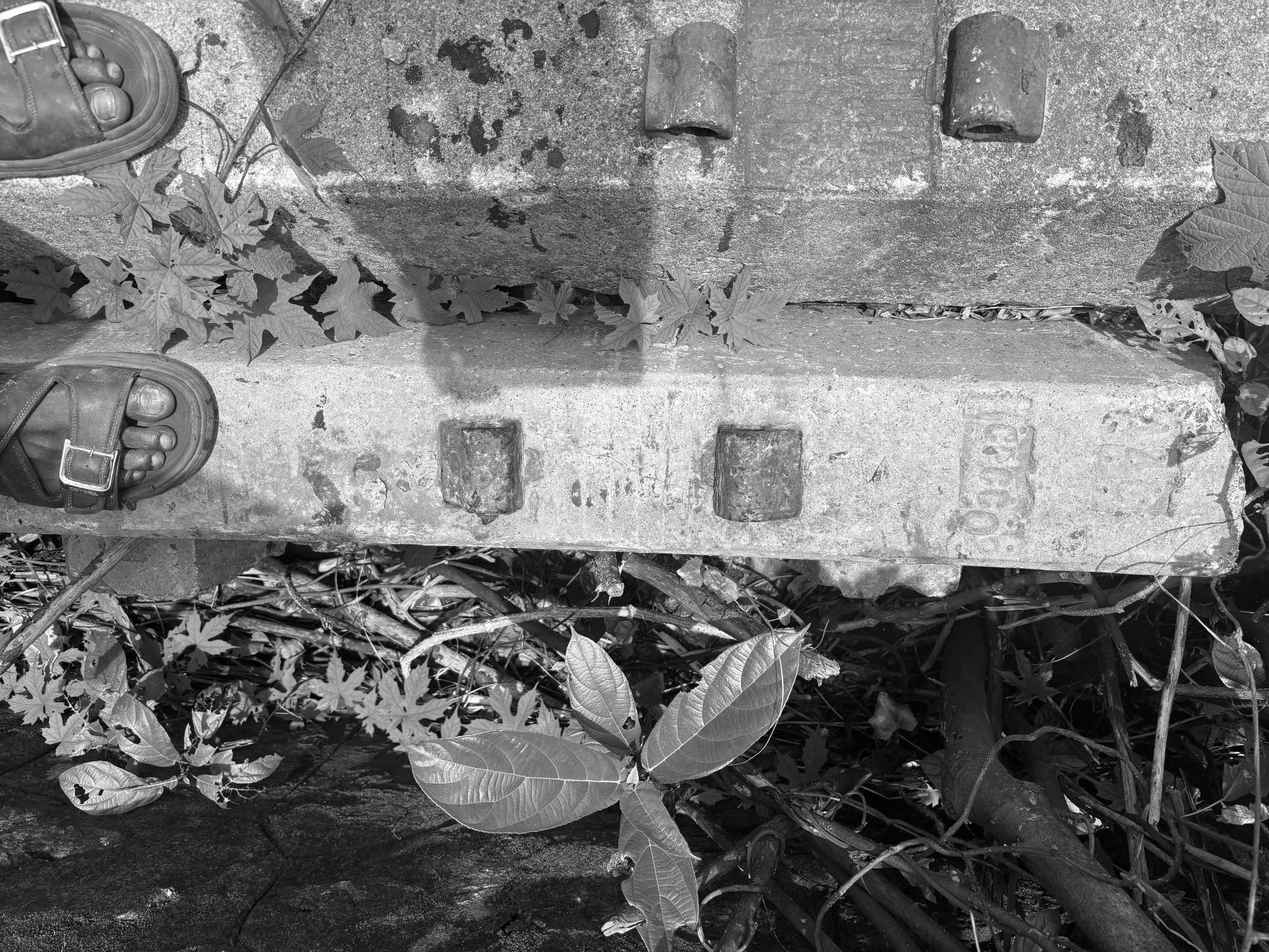cracks under rail seat: (512, 413, 723, 513)
